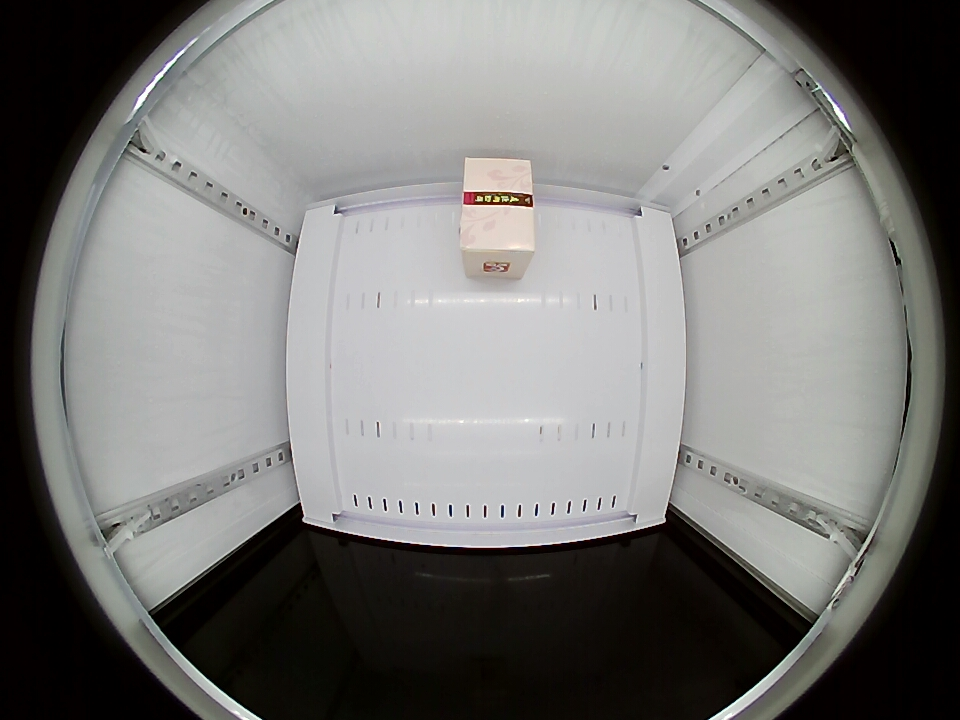rousongbing: (460, 156, 536, 273)
